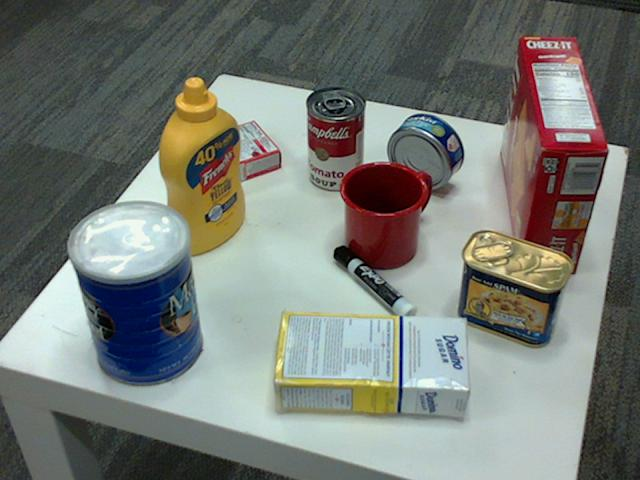cracker_box: (499, 35, 608, 272)
gelatin_box: (190, 117, 282, 186)
large_marker: (333, 247, 416, 326)
master_chef_can: (64, 201, 201, 387)
mug: (336, 159, 427, 266)
mustard_bottle: (157, 77, 245, 254)
potted_meat_can: (455, 229, 572, 347)
sugar_box: (266, 309, 467, 416)
tomato_soup_can: (305, 87, 365, 191)
tuna_fish_can: (386, 112, 462, 189)
